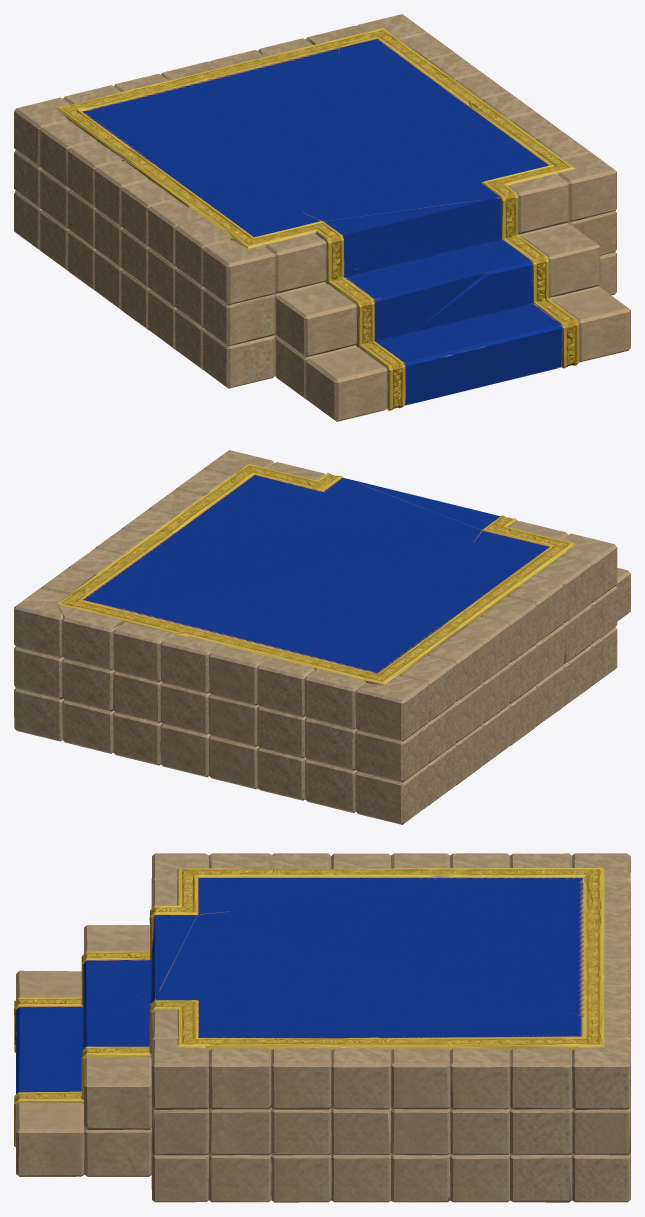
Rendered from dais_blue.glb.
The picture shows the model from 3 angles, top to bottom: view 1: azimuth 30°, elevation 25°; view 2: azimuth 150°, elevation 25°; view 3: azimuth 270°, elevation 25°; orthographic projection. The views are drawn at different scales.
Bounding box in the file's own units: 1.55 × 0.4888 × 1.9.
Materials: 1 (1 with a texture image).
